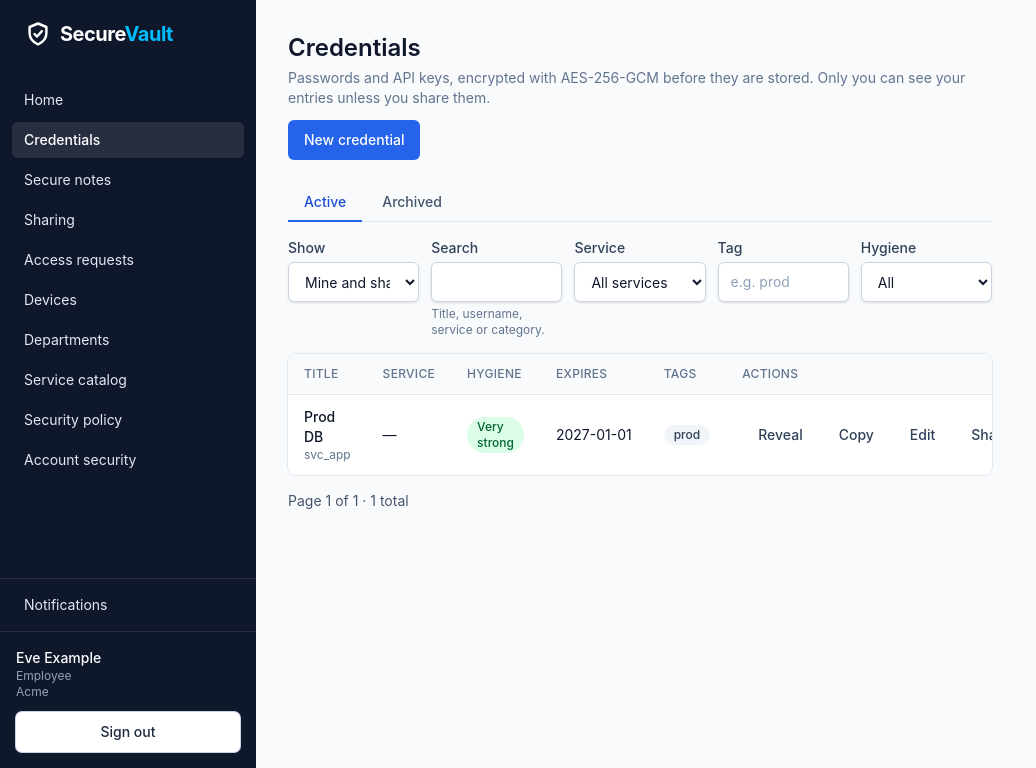
Test: credentials vault › explains when the browser blocks the clipboard
Click the button with aria-label "Copy Prod DB". click: [856, 435]
box: x1=823 y1=415 x2=890 y2=455
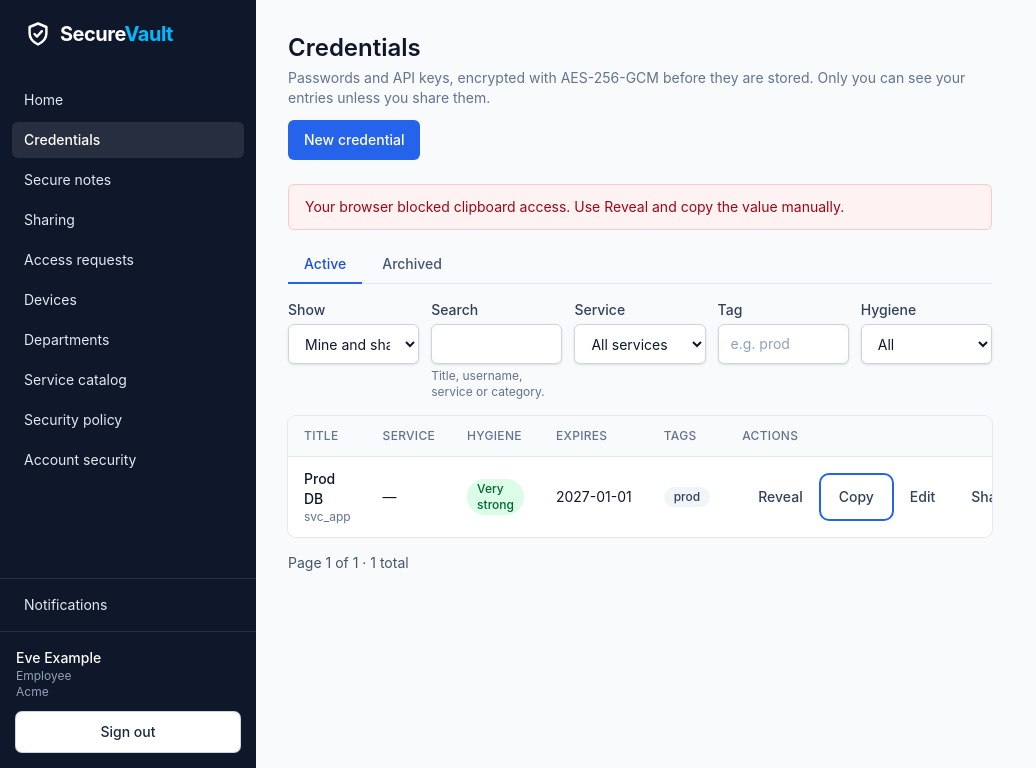
expect the message shows "blocked clipboard access": met, box x1=305 y1=198 x2=844 y2=215
